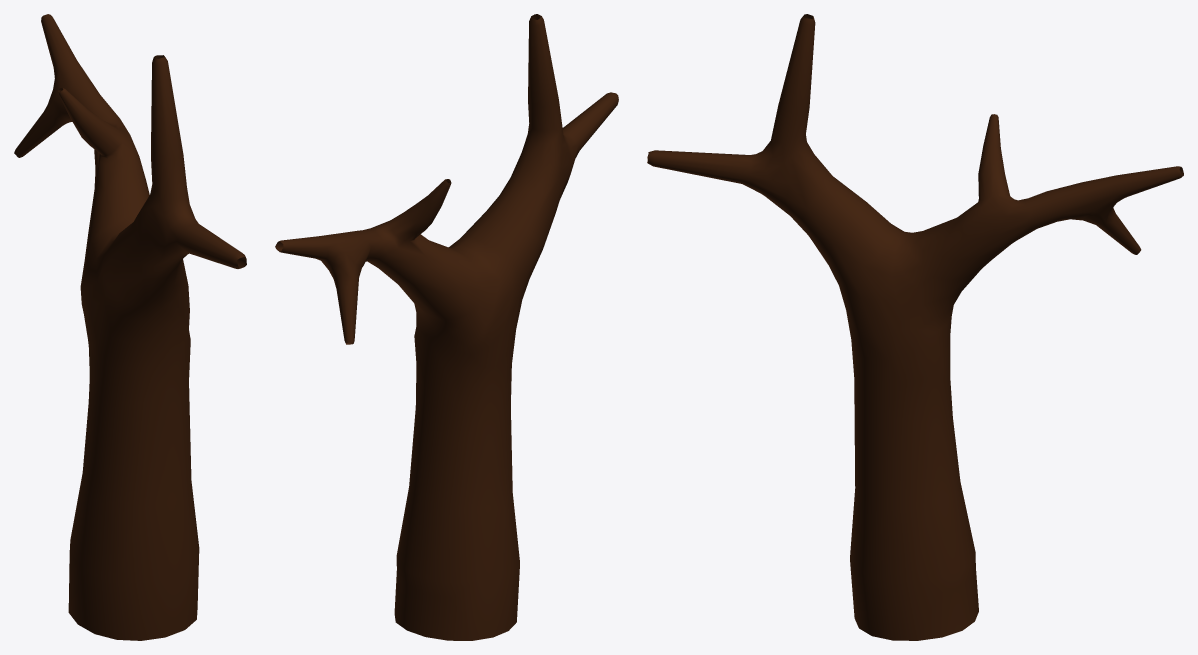
Rendered from Trunk2.fbx.
3 views of the same model, side by side, from view 1: azimuth 30°, elevation 25°; view 2: azimuth 150°, elevation 25°; view 3: azimuth 270°, elevation 25° (orthographic). The views are drawn at different scales.
Visible parts, largest first — view 1: Trunk2; view 2: Trunk2; view 3: Trunk2.
Boxes of the visible parts, <box> form: Trunk2: <box>14,14,246,640</box>; Trunk2: <box>275,14,618,640</box>; Trunk2: <box>647,14,1183,640</box>.
Bounding box in the file's own units: 79.73 × 411 × 339.
